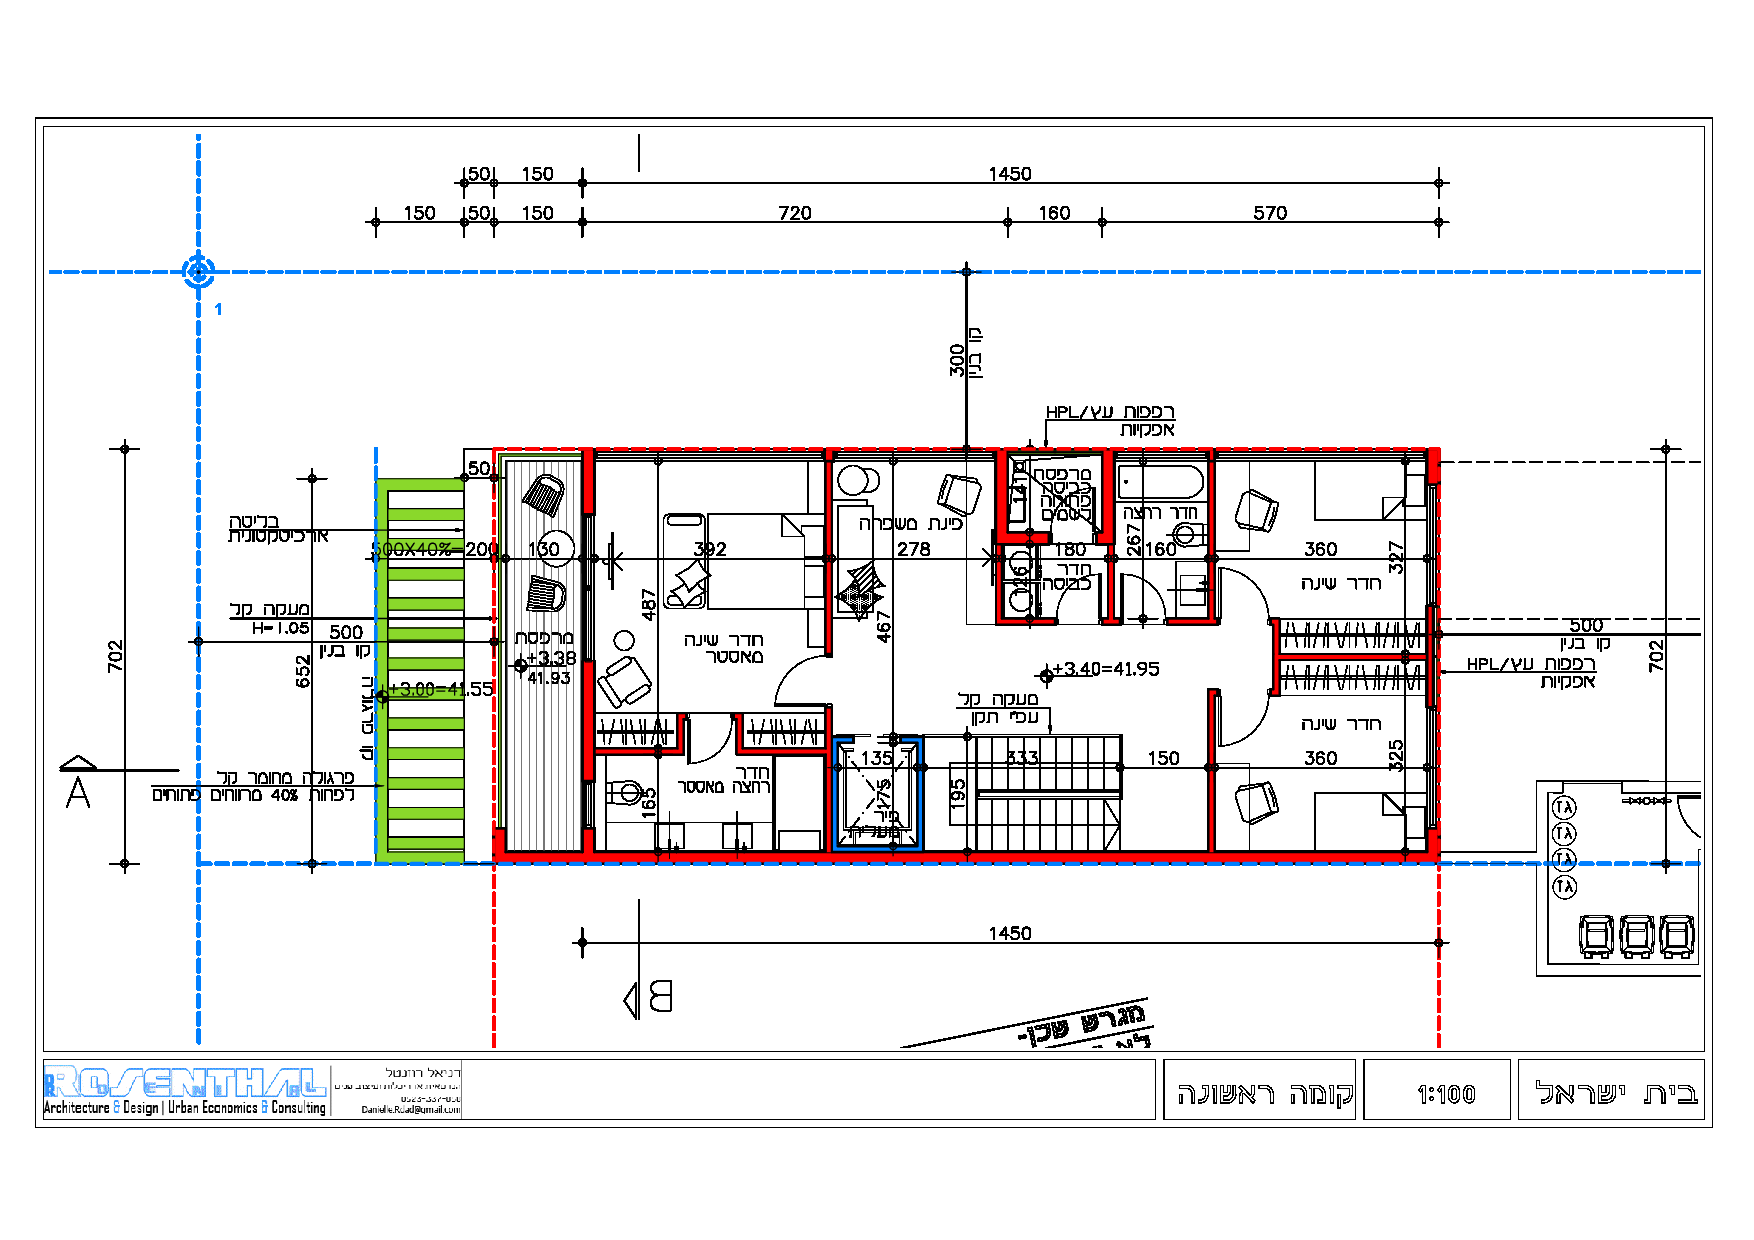door: (762, 654, 820, 711), (1216, 698, 1274, 756), (1217, 561, 1275, 619)
